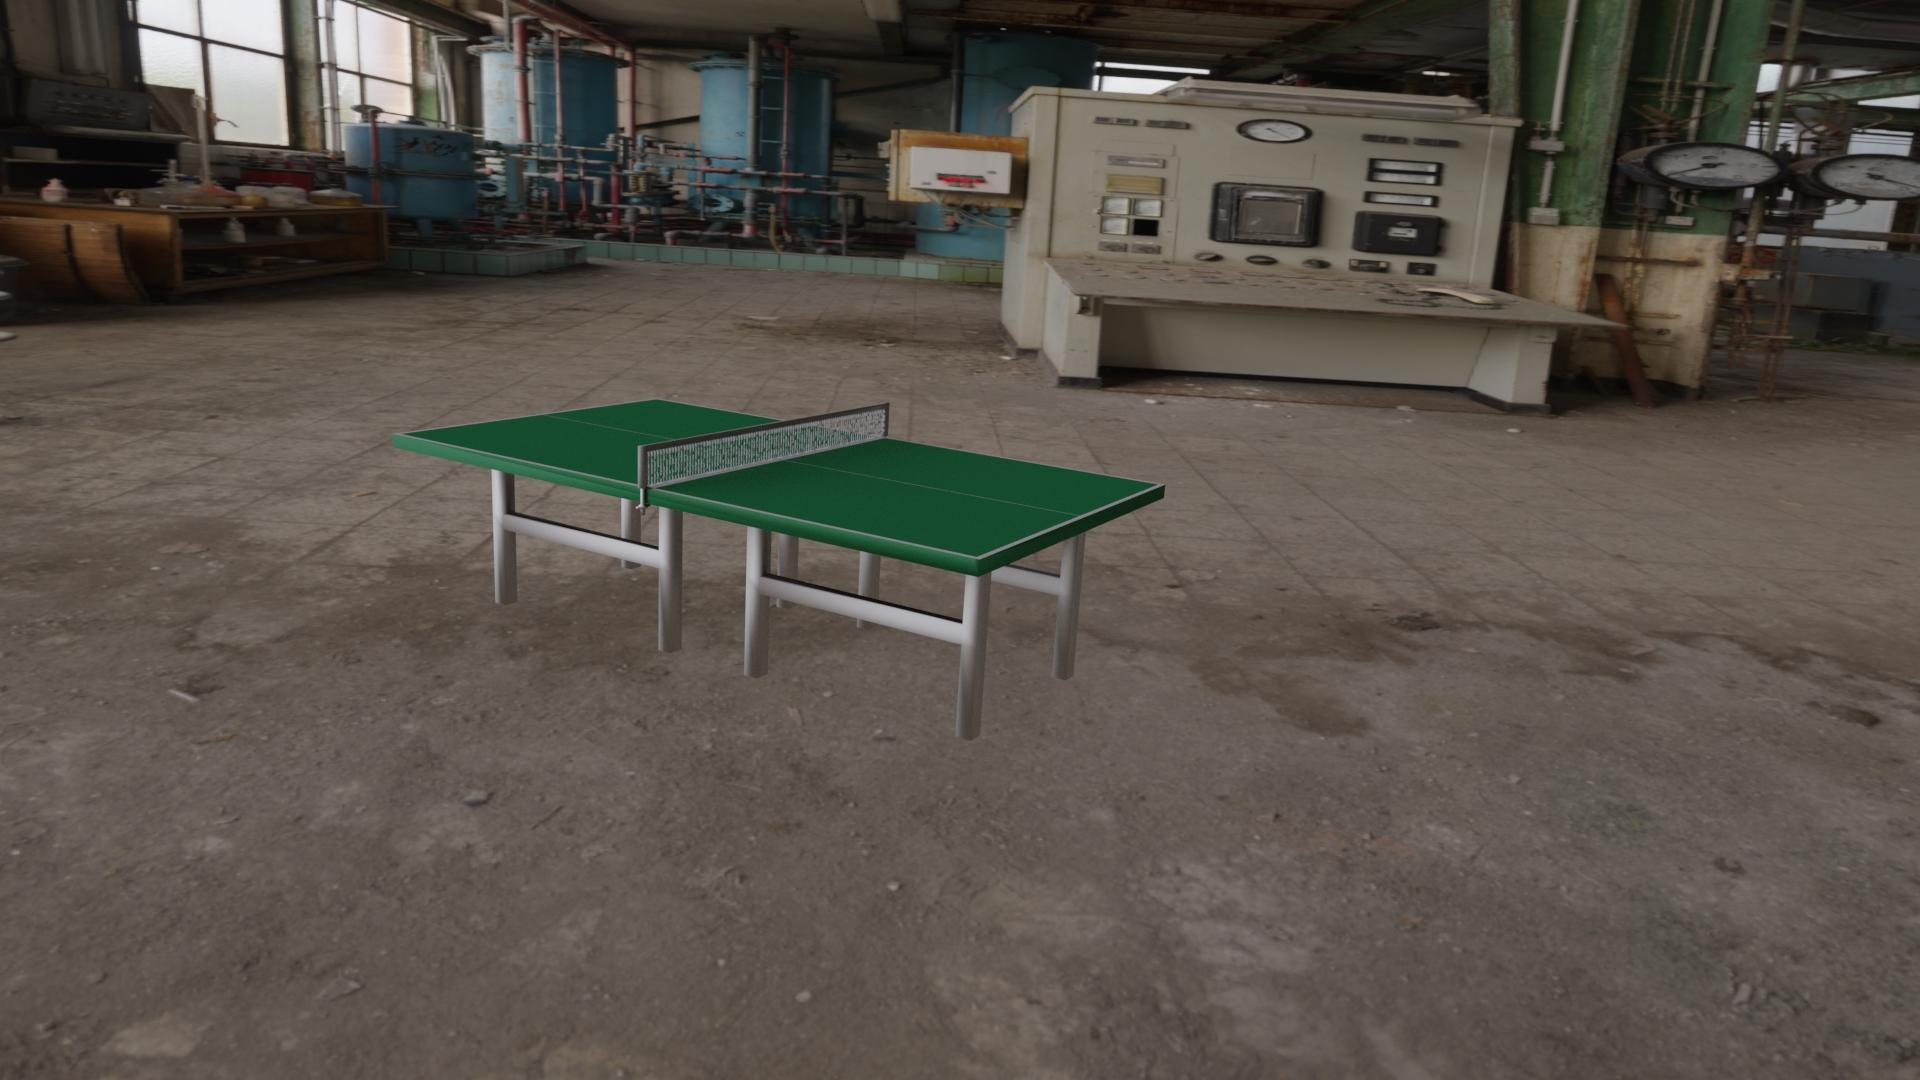table: (400, 400, 1159, 556)
